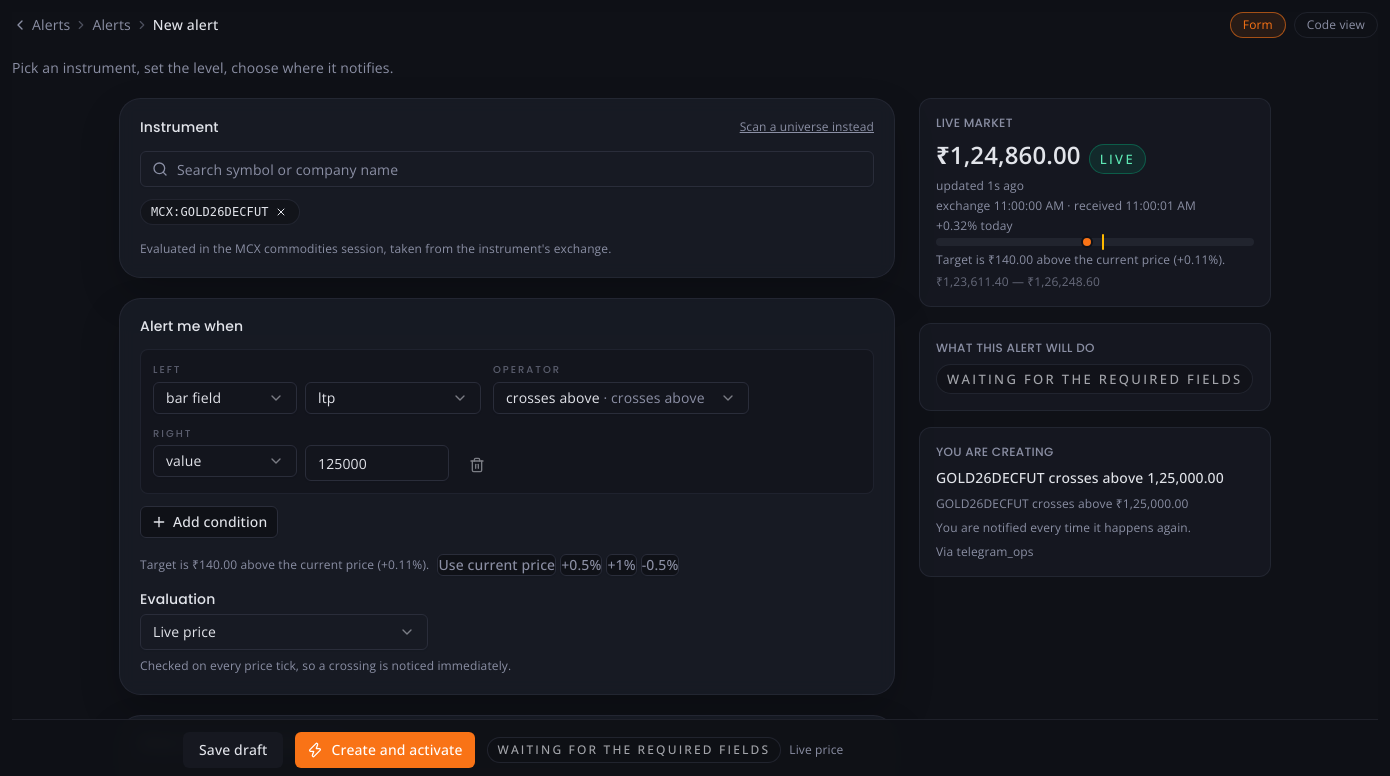
Test: UnifiedAlertEditor › moves the clock and the left side when the operator becomes a percentage move
Expected: the text "New alert" is shown, [153,15,218,35]
Expected: the field labelled "Measured over" is not shown
Click the dropdown named "Operator" at (621, 398), box [493,382,749,414]
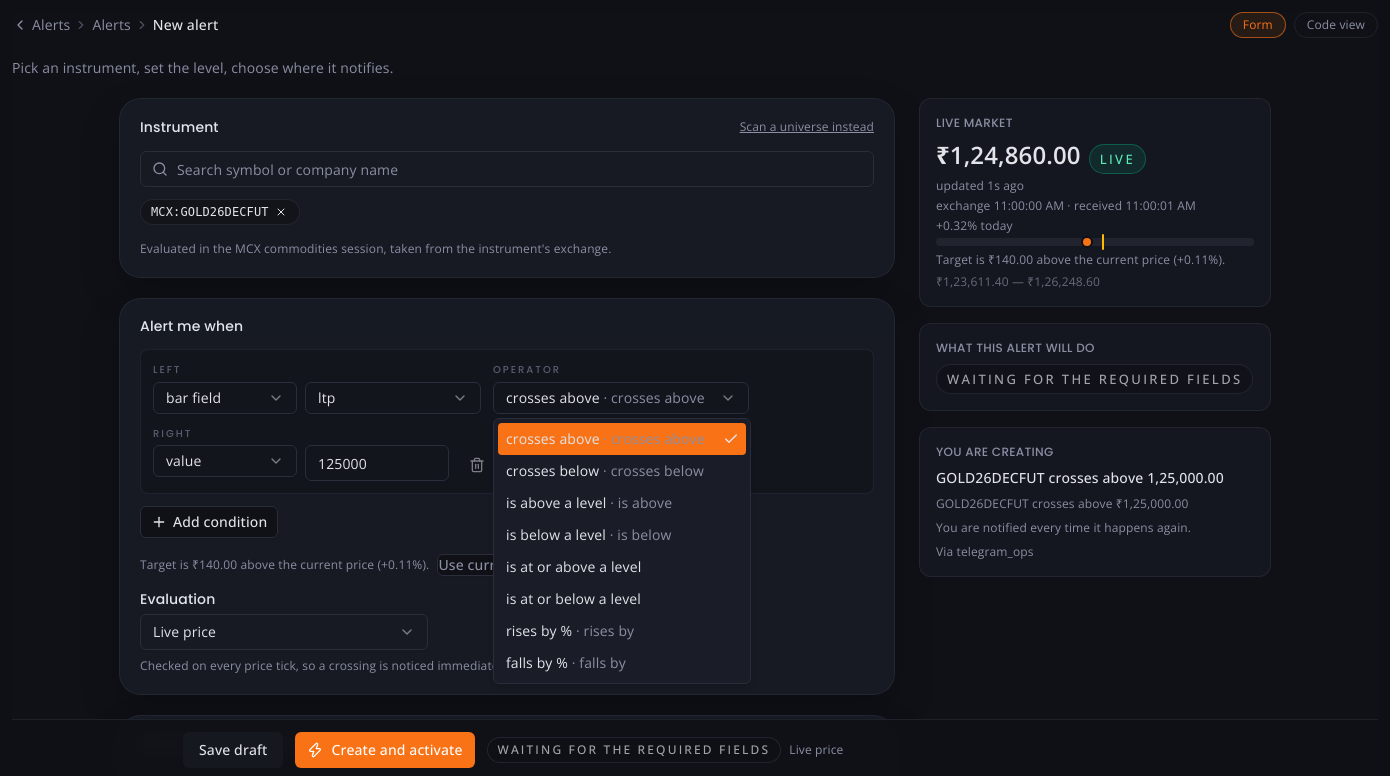
Click the option "rises by % · rises by" at (570, 630), box [506,621,634,640]
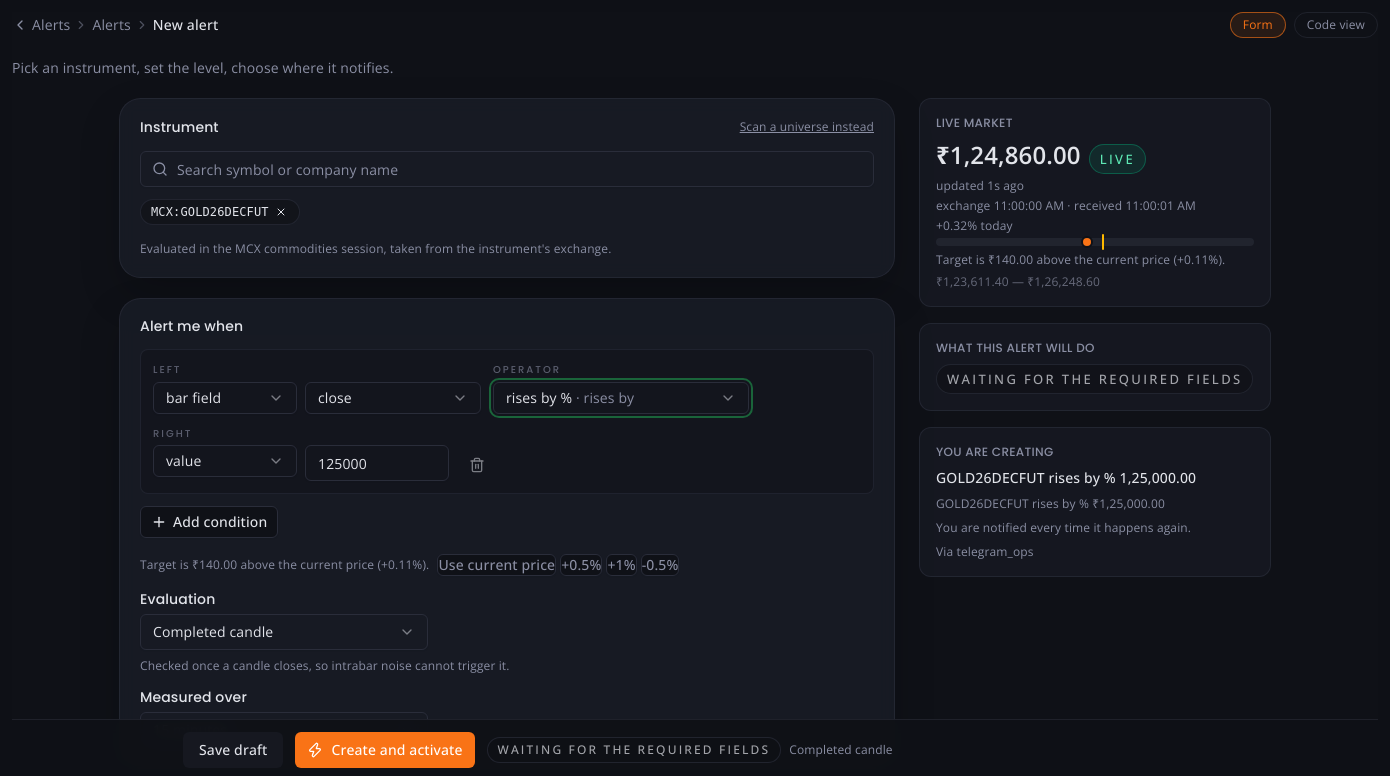
Result: the dropdown named "condition 1 left field" reads "close" at [305,382,481,414]
Result: the dropdown named "Evaluation" reads "Completed candle" at [140,614,428,650]
Result: the dropdown named "Measured over" is shown at [140,712,428,748]
